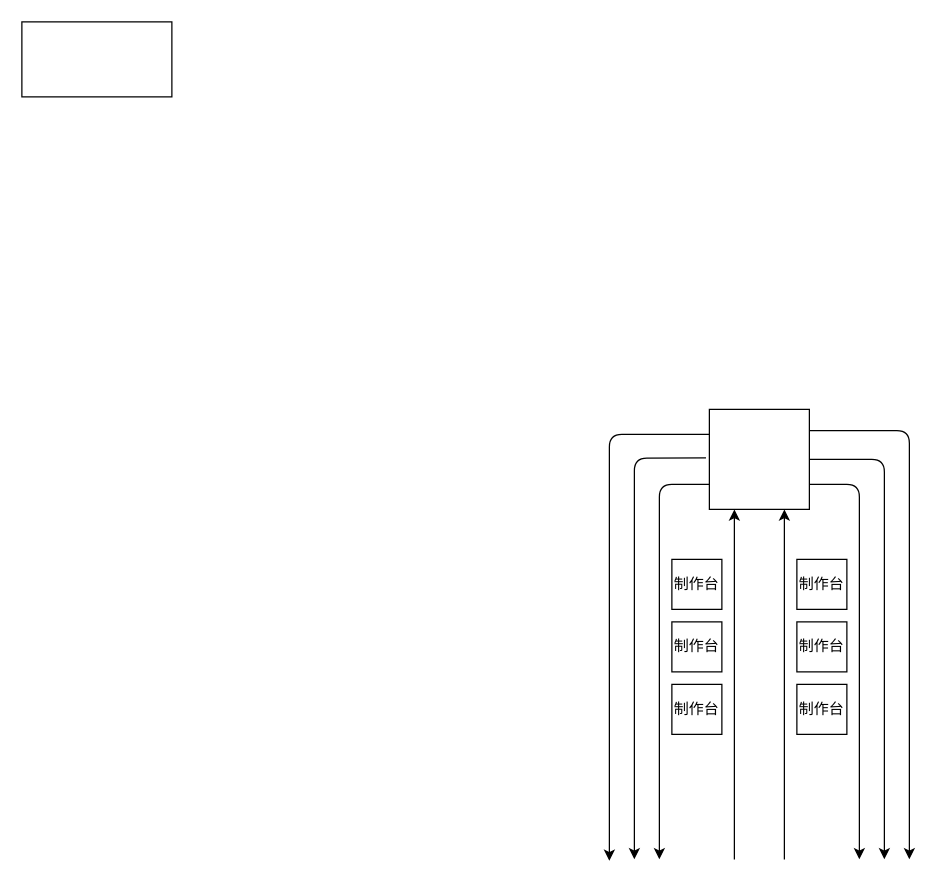
Some shapes in this 941 by 894 pixel diagram are drawn without their labels. The box of each missing label's shape, as (x1, y1, x2, y2) in pixels:
物流塔: (708, 408, 809, 509)
钛合金: (21, 21, 172, 97)
